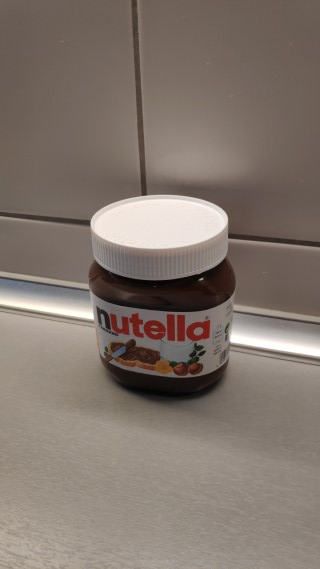nutella: (86, 190, 237, 404)
